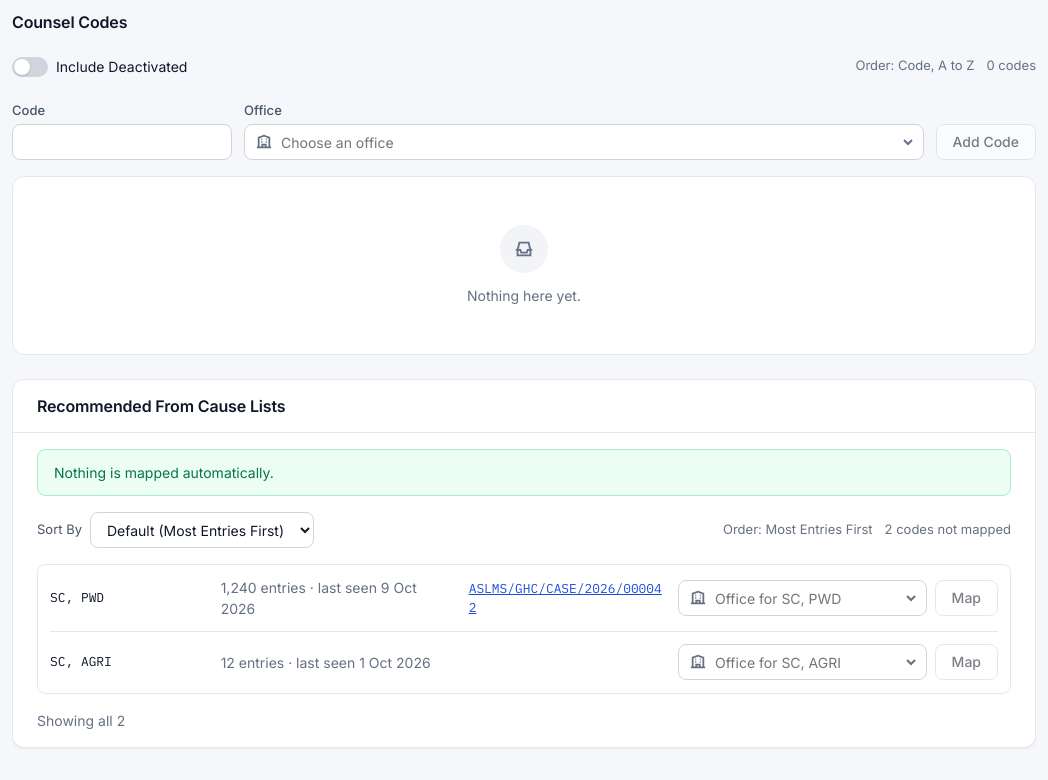
Scenario: counsel codes (design portal-ui-polish-2, decisions 39-42) › Recommended From Cause Lists is always shown; Map posts the code with the chosen office and the code leaves
Expected: the text "SC, PWD" is shown, [50,589,104,606]
Expected: the text "2 codes not mapped" is shown, [885,520,1011,540]
Click the dropdown labelled "Office for SC, PWD" at x=802, y=598, box [678,580,927,616]
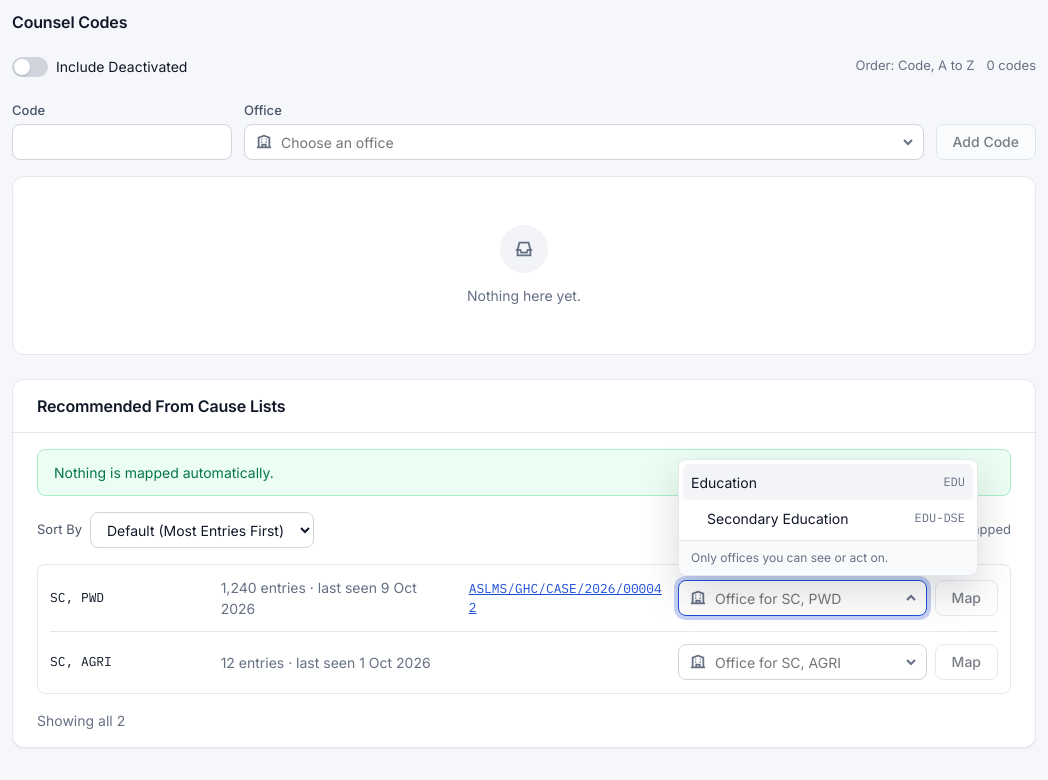
Click the text "Education" at x=724, y=482, box [691,474,757,490]
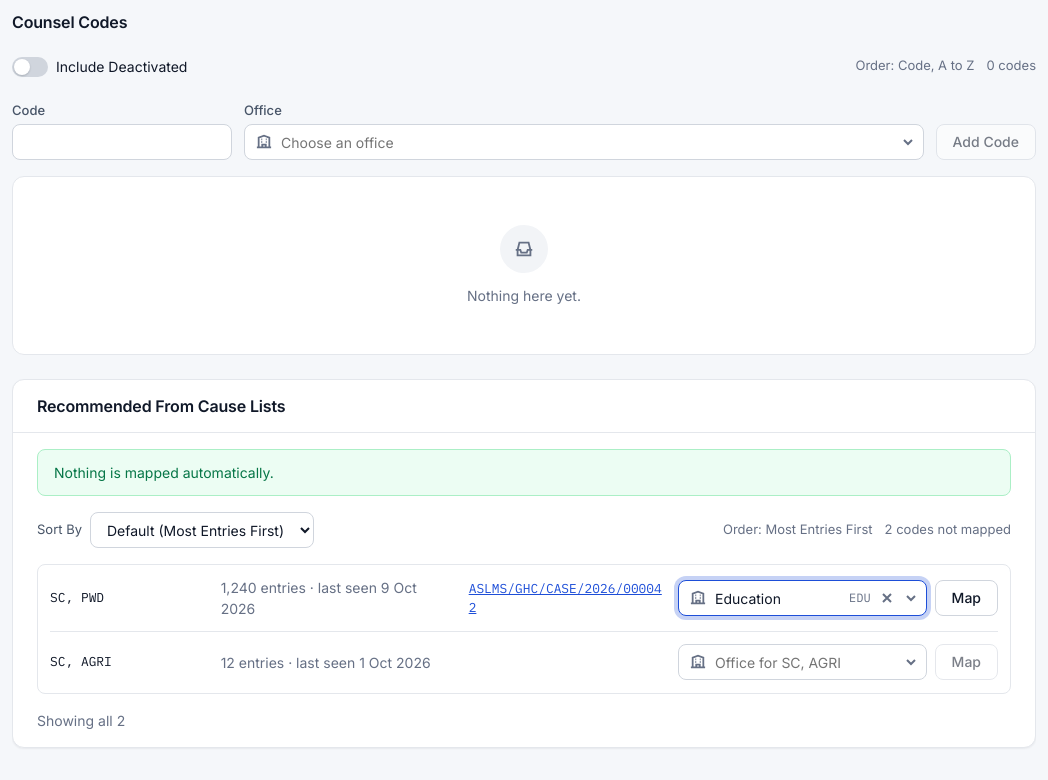
Click the button with aria-label "Map SC, PWD" at x=966, y=598, box [935,580,998,616]
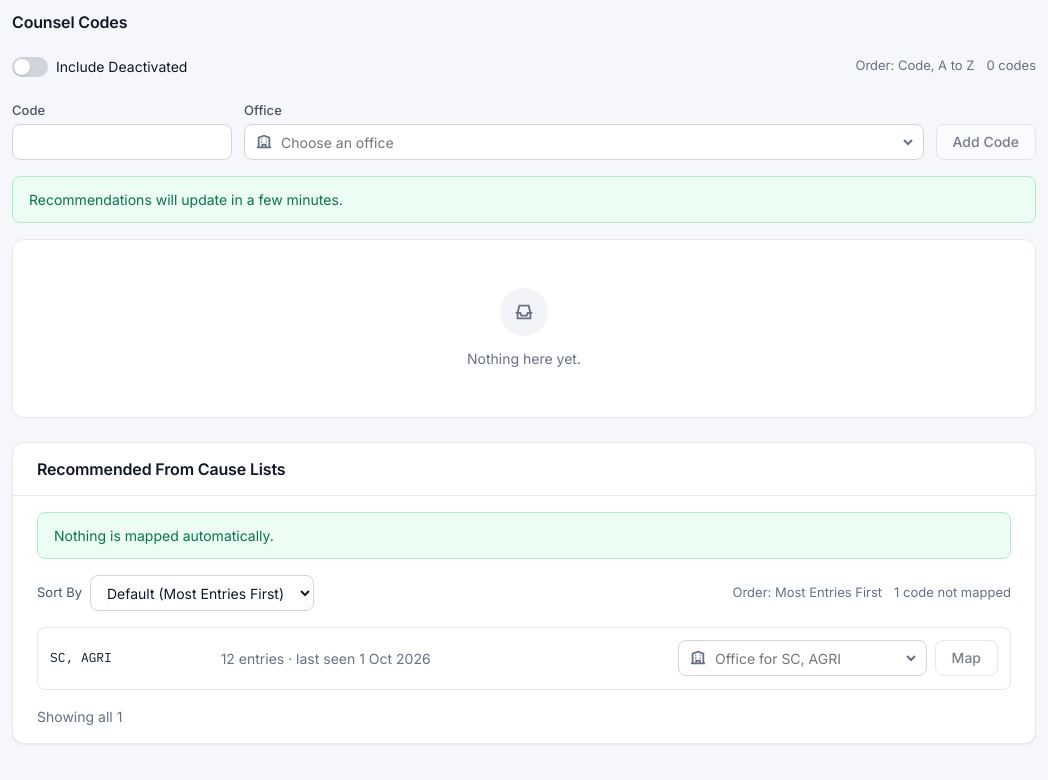
Expected: the text "SC, AGRI" is shown, [50,649,112,666]
Expected: the text "SC, PWD" is gone
Expected: the text "1 code not mapped" is shown, [894,583,1011,603]
